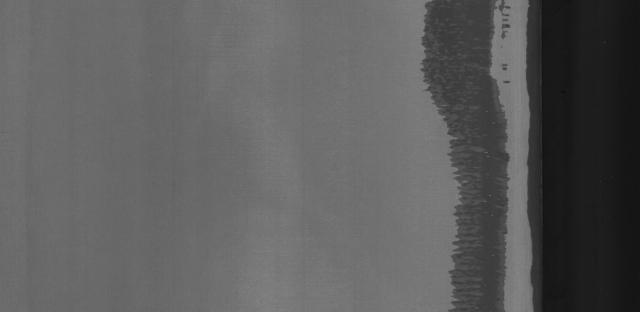oil_spot: (397, 5, 510, 312)
